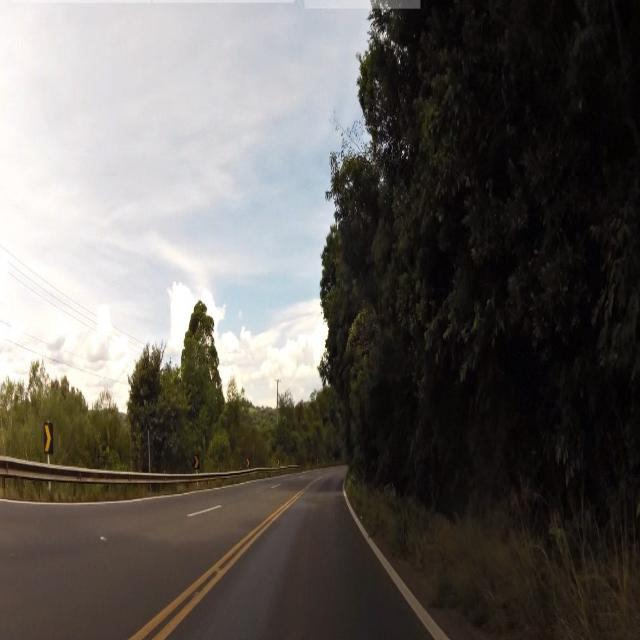Del: (44, 422, 54, 454), (193, 455, 199, 469)
